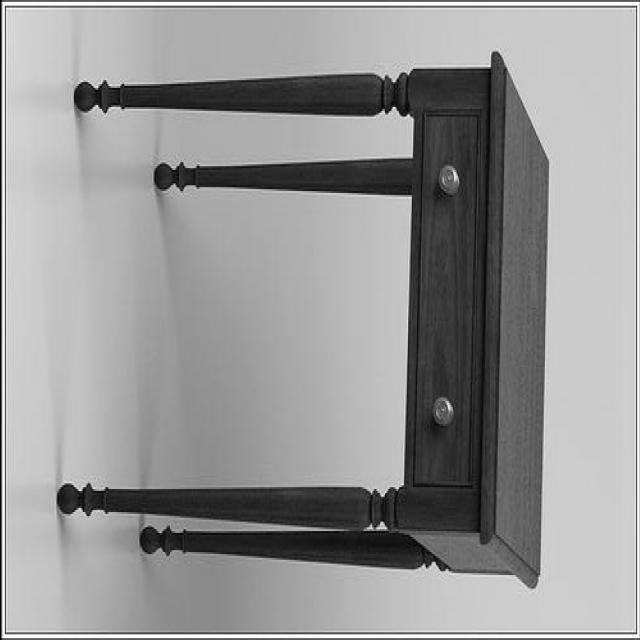table: (56, 46, 552, 589)
